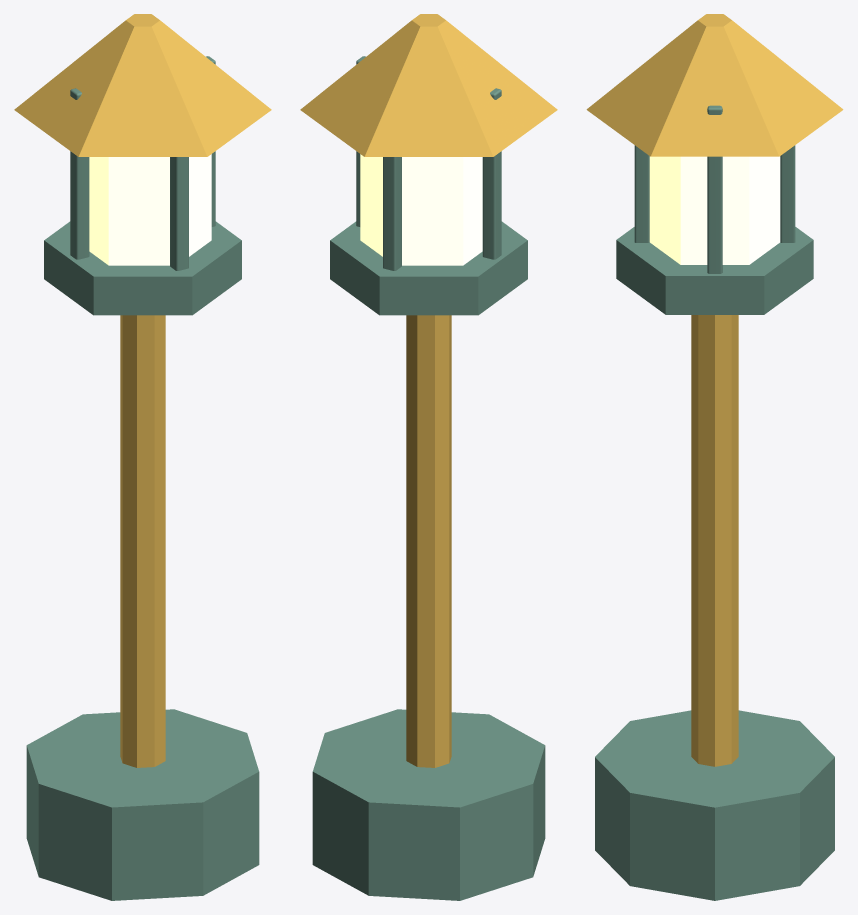
File: lantern.glb
3 views of the same model, side by side, from view 1: azimuth 30°, elevation 25°; view 2: azimuth 150°, elevation 25°; view 3: azimuth 270°, elevation 25° (orthographic).
Visible parts, largest first — view 1: Foot.002, Roof, Post, LanternBottom, LuminousGlass, Frame.002, Frame.003; view 2: Foot.002, Roof, Post, LanternBottom, LuminousGlass, Frame.002, Frame.001; view 3: Foot.002, Roof, Post, LuminousGlass, LanternBottom, Frame, Frame.001, Frame.003.
Boxes of the visible parts, x1,y1,x2,y2 form: Foot.002: (26, 709, 259, 900); Roof: (14, 14, 271, 156); Post: (120, 315, 165, 767); LanternBottom: (44, 221, 241, 315); LuminousGlass: (89, 154, 211, 265); Frame.002: (70, 88, 89, 259); Frame.003: (170, 157, 188, 270); Foot.002: (312, 709, 545, 900); Roof: (300, 14, 557, 156); Post: (406, 315, 451, 767); LanternBottom: (330, 221, 527, 315); LuminousGlass: (360, 154, 482, 265); Frame.002: (482, 88, 501, 259); Frame.001: (383, 157, 401, 270); Foot.002: (595, 710, 834, 900); Roof: (586, 14, 843, 156); Post: (691, 315, 738, 766); LuminousGlass: (649, 156, 780, 264); LanternBottom: (616, 227, 813, 314); Frame: (707, 105, 722, 273); Frame.001: (780, 145, 795, 242); Frame.003: (634, 145, 649, 242).
Bounding box in the file's own units: 0.56 × 2.13 × 0.6.
